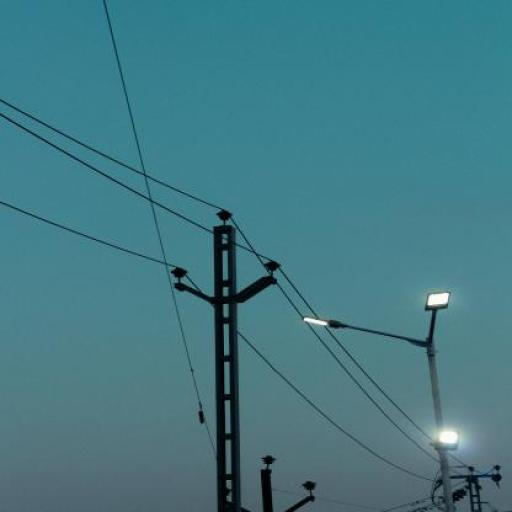street light: (304, 290, 463, 512)
